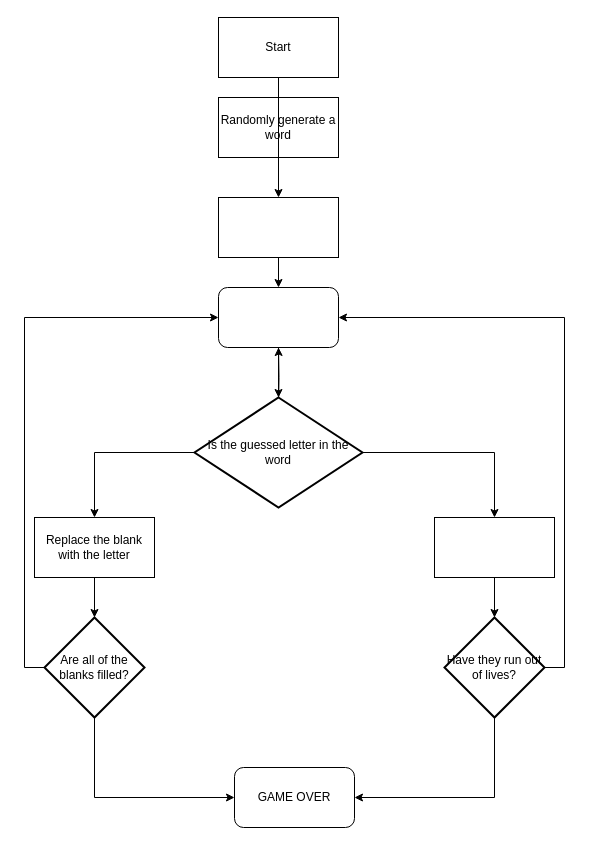
Some shapes in this 590 by 845 pixel diagram are drawn without their labels. The box of each missing label's shape, as (x1, y1, x2, y2) in pixels:
Ask the user to guess a letter: (218, 286, 338, 348)
Generate as many blanks as letters in word: (218, 196, 338, 258)
Lose a life: (434, 516, 554, 578)
